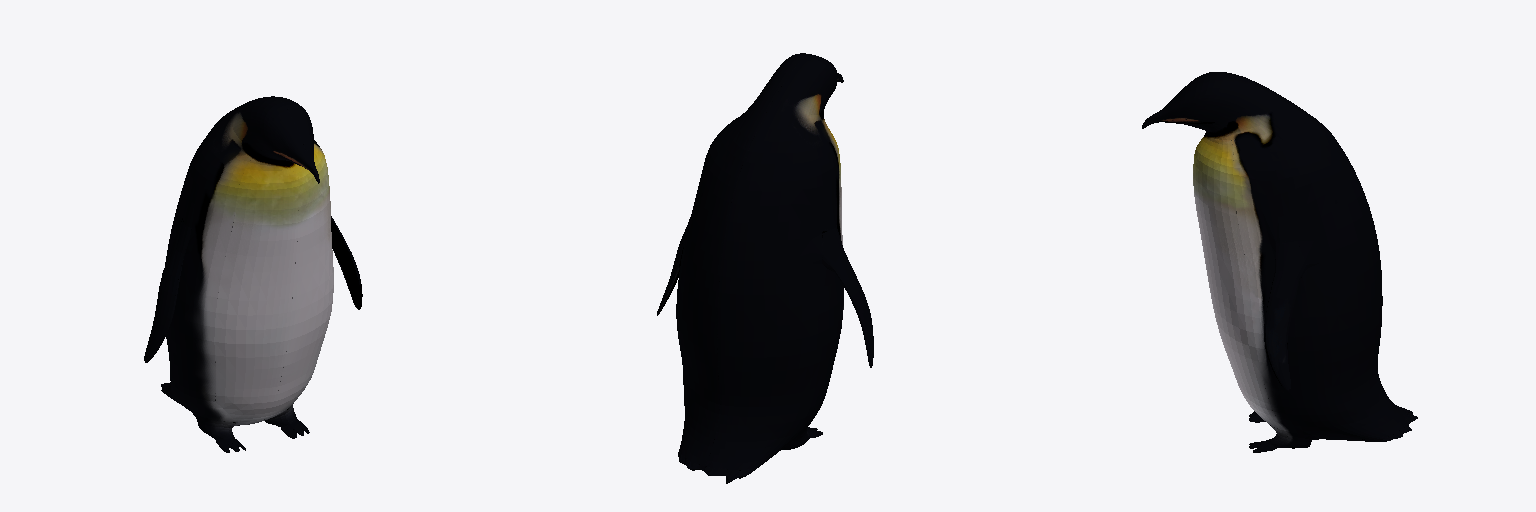
3 views of the same model, side by side, from view 1: azimuth 30°, elevation 25°; view 2: azimuth 150°, elevation 25°; view 3: azimuth 270°, elevation 25° (orthographic).
Parts seen in each view (by area): view 1: Penguin_Cylinder; view 2: Penguin_Cylinder; view 3: Penguin_Cylinder.
Part boxes in pixels (bbox=[...]): Penguin_Cylinder: bbox=[144, 96, 362, 452]; Penguin_Cylinder: bbox=[657, 53, 873, 483]; Penguin_Cylinder: bbox=[1142, 72, 1417, 452].
Bounding box in the file's own units: 0.7502 × 1.19 × 0.8357.
Materials: 1 (1 with a texture image).